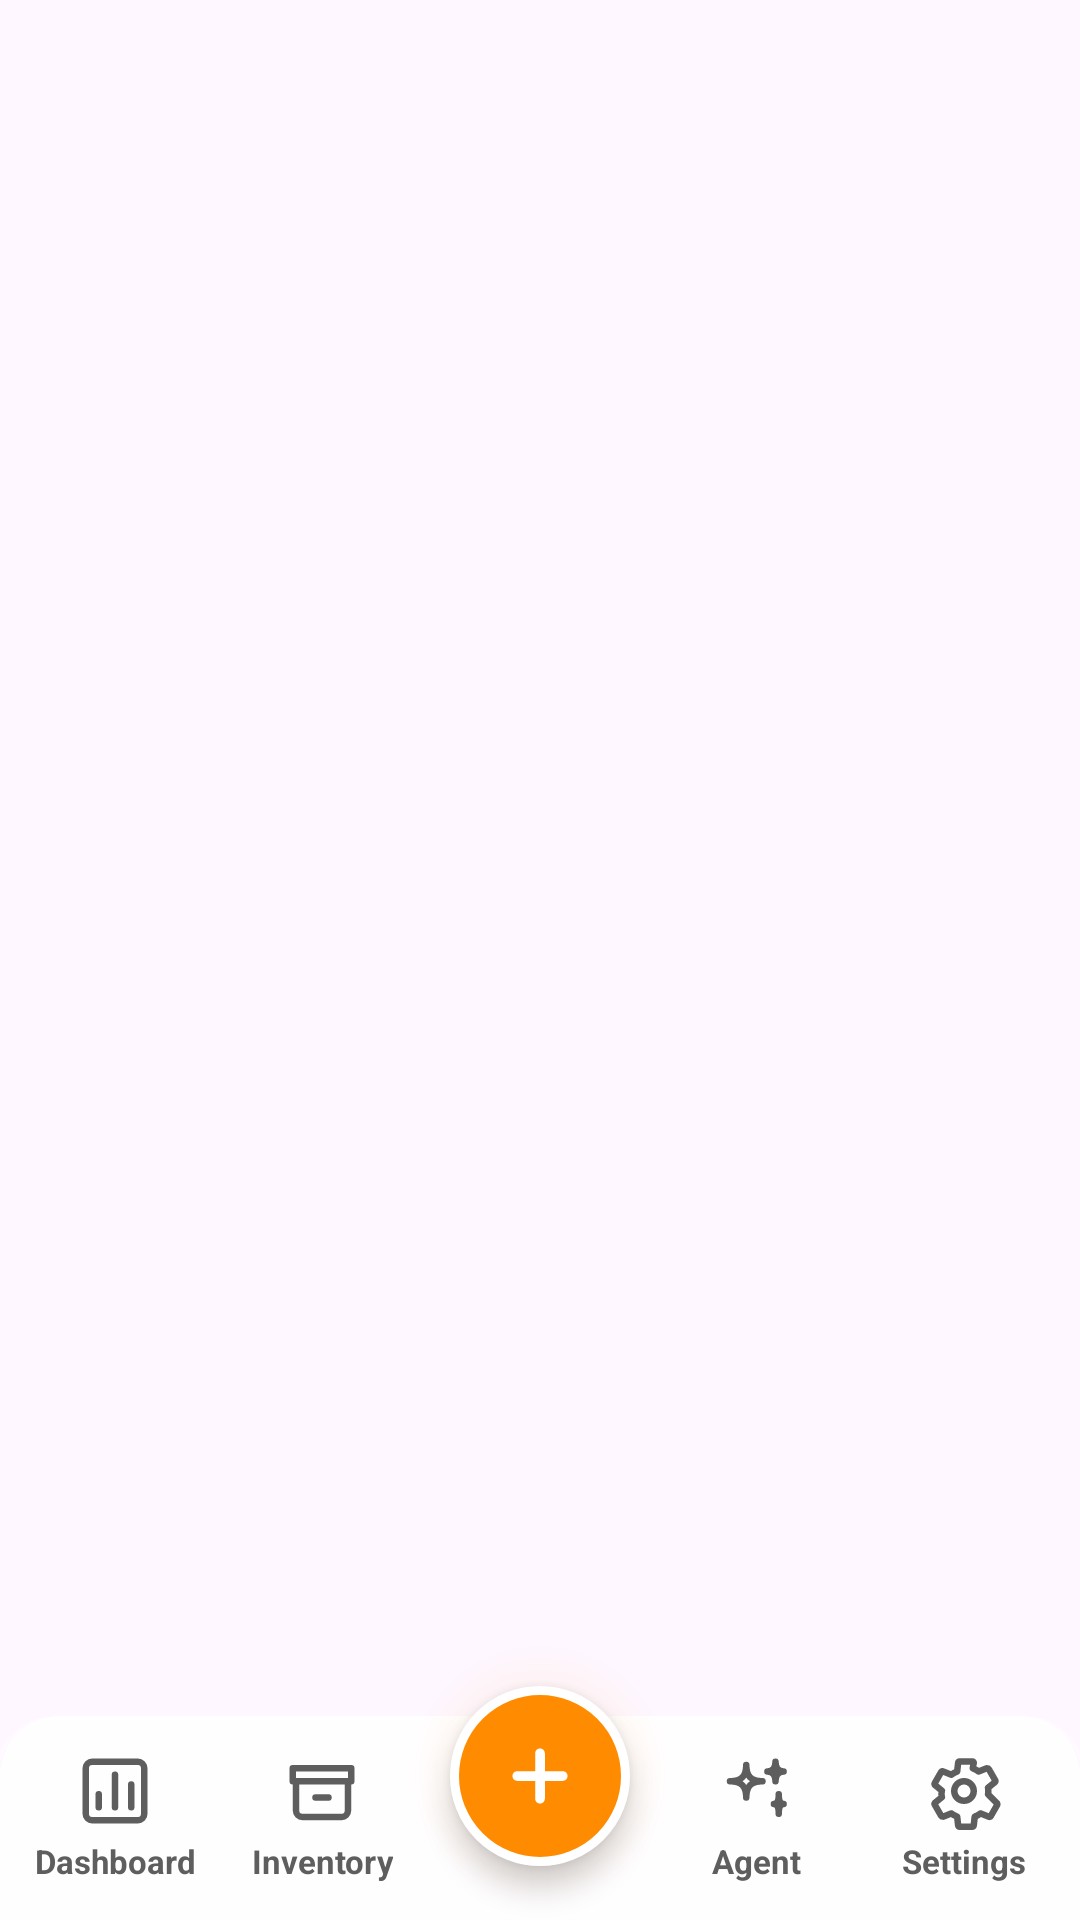

Named icons in this screenshot (1080 x 1920) and their bounding boxes, box=[x1, y1, x2, y2]:
Add Product: box=[512, 1748, 568, 1804]
